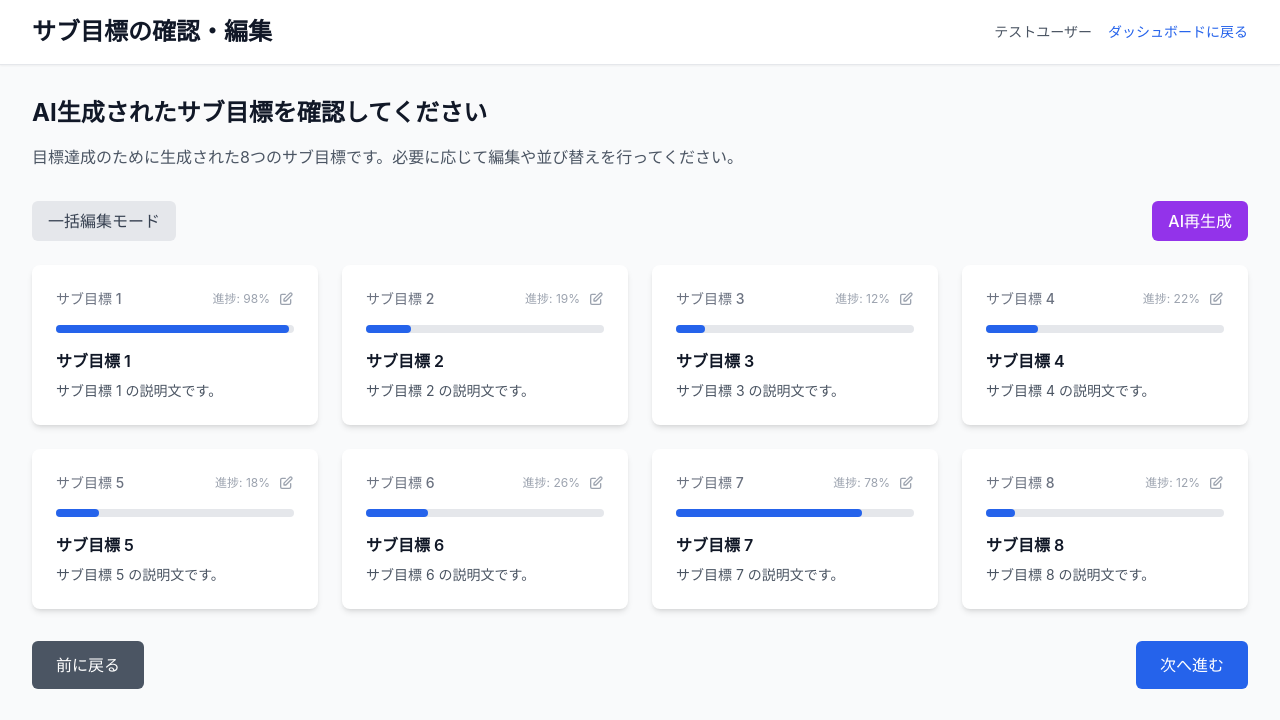
SubGoalEditPage › 保存・キャンセル › キャンセルボタンで変更を破棄できる
Expected: the text "サブ目標 1" is shown, [56,289,122,309]
Click the 1st button named "サブ目標を編集". click: (286, 299)
box: [278,291,294,307]
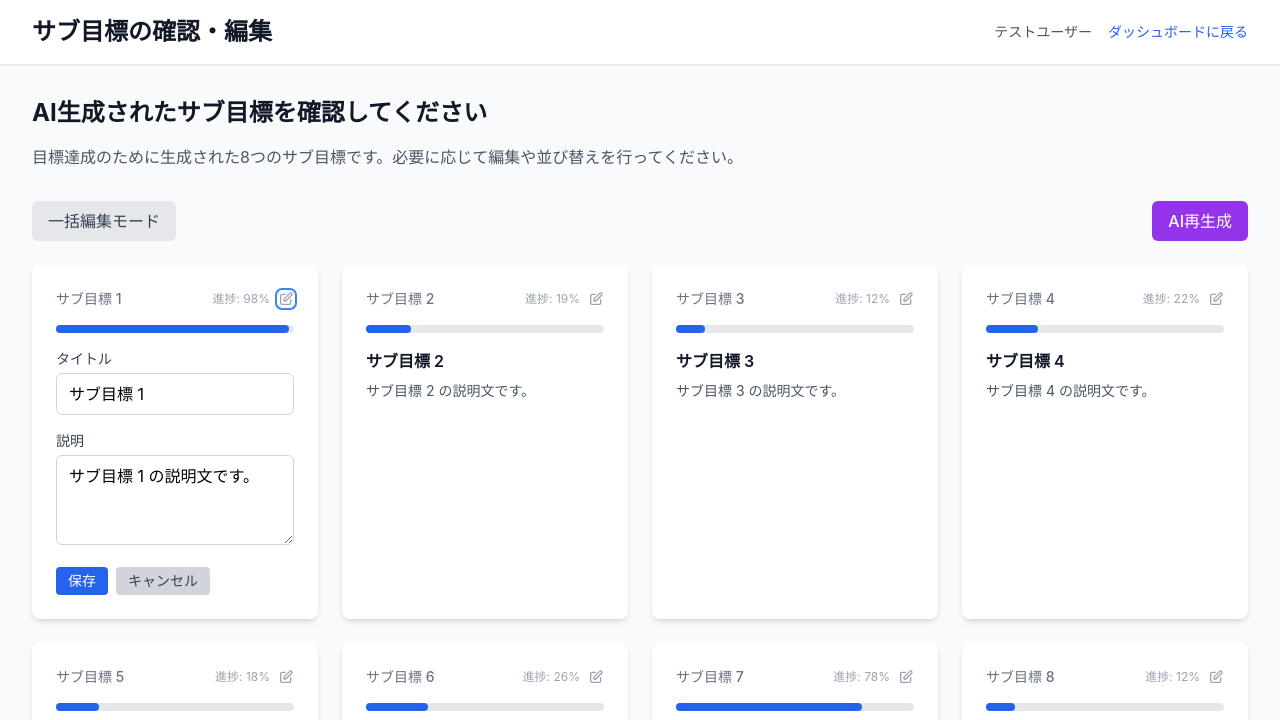
Now the button "キャンセル" is shown
Click the button "キャンセル". click: (163, 581)
box: [116,567,210,595]
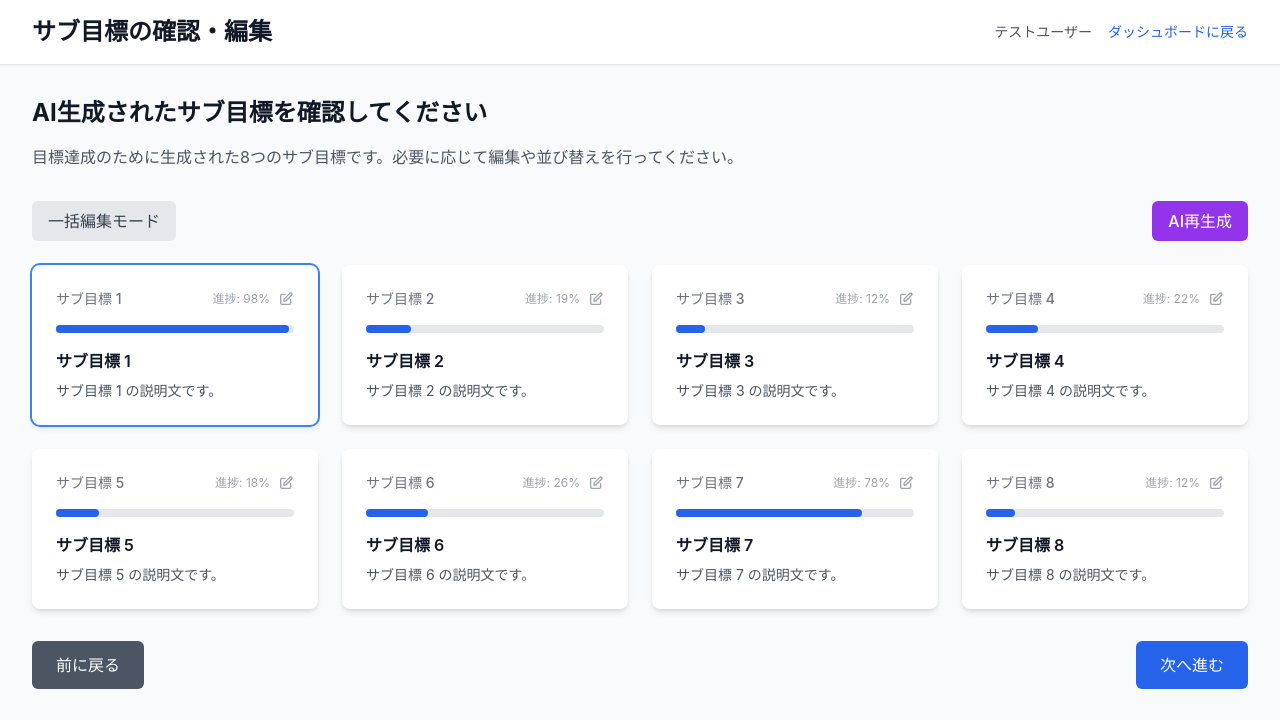
Now the label labelled "タイトル" is gone
